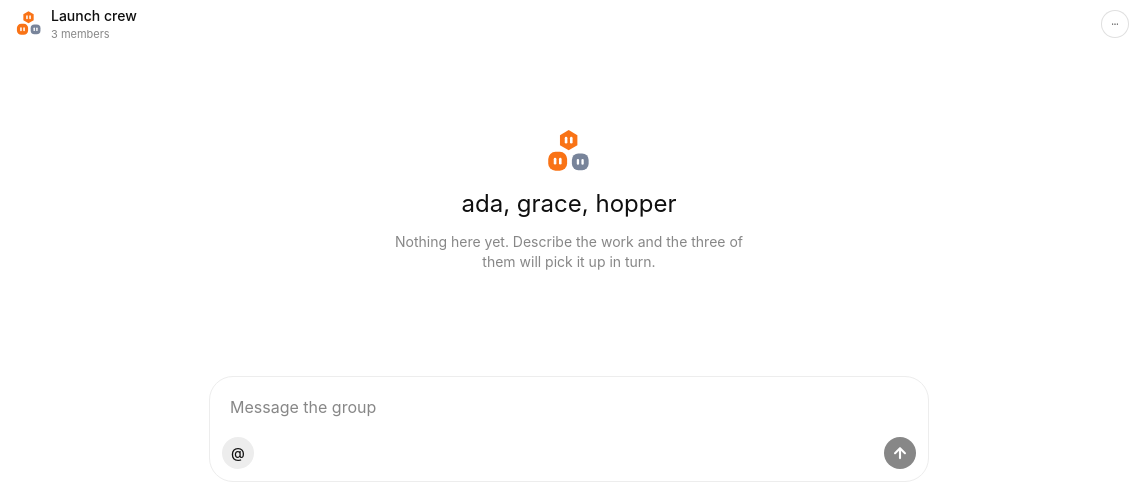
group room › offers the members panel off the header
This screenshot has width=1145, height=499.
Expected: the text "3 members" is shown, [51,27,110,41]
Click the button named "Group options" at (1115, 24), box [1101,10,1129,38]
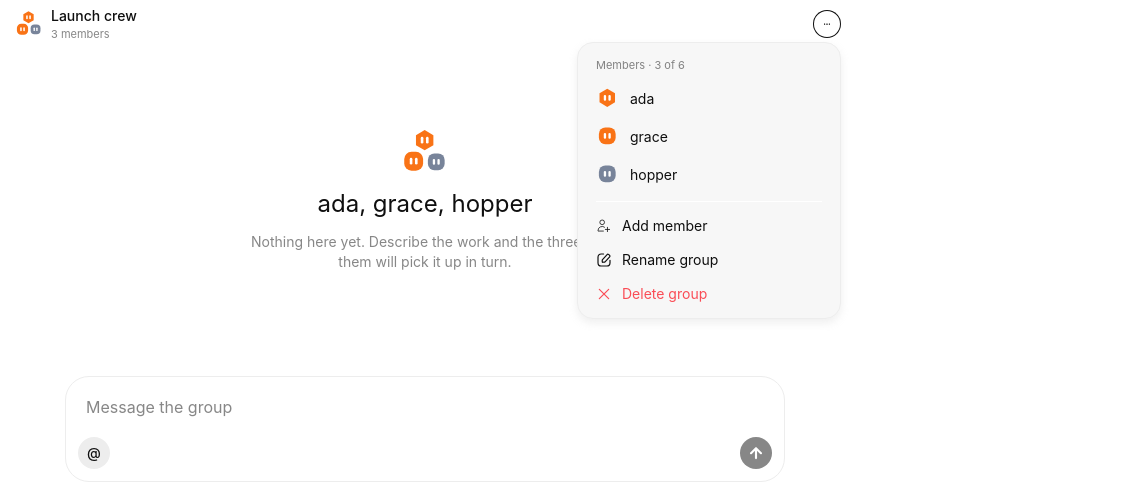
Expected: the text "Members · 3 of 6" is shown, [596,58,685,72]
Expected: the menu item "Add member" is shown, [596,217,707,234]
Expected: the menu item "Rename group" is shown, [596,251,718,268]
